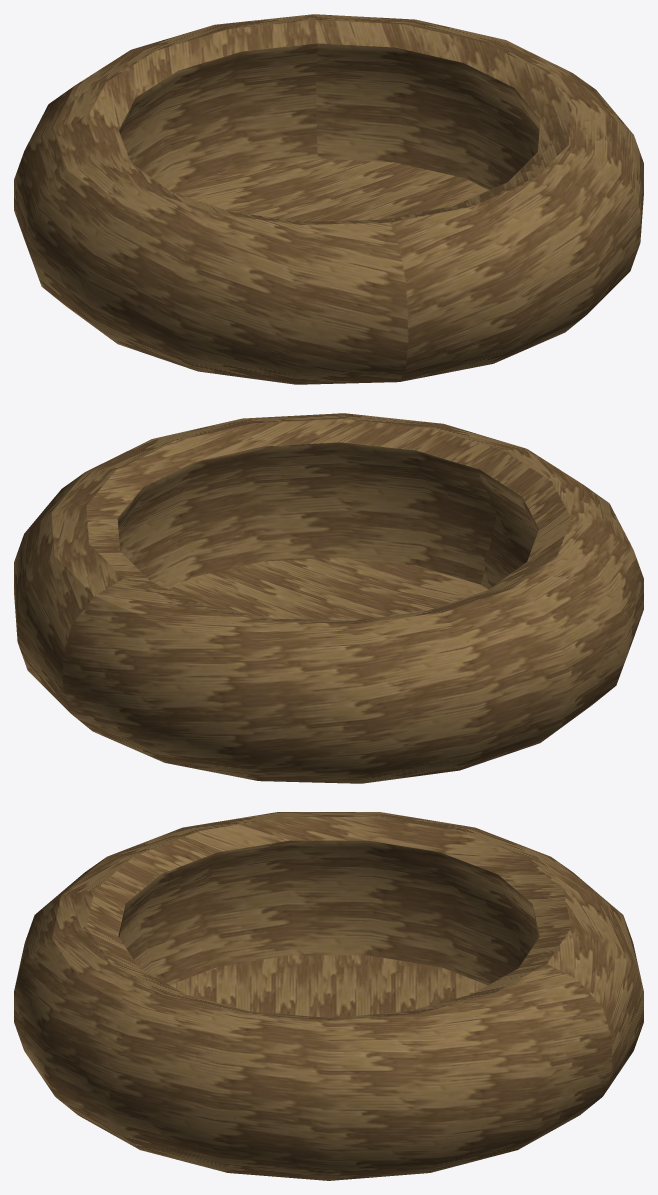
Rendered from nest.glb.
3 renders of one model, top to bottom at view 1: azimuth 30°, elevation 25°; view 2: azimuth 150°, elevation 25°; view 3: azimuth 270°, elevation 25°, orthographic.
Parts seen in each view (by area): view 1: nest; view 2: nest; view 3: nest.
Part boxes in pixels (x1,y1,x2,y2): nest: [14, 14, 643, 384]; nest: [14, 413, 643, 783]; nest: [14, 812, 643, 1180].
Bounding box in the file's own units: 0.026 × 0.00746 × 0.0261.
1 material, 1 textured.
